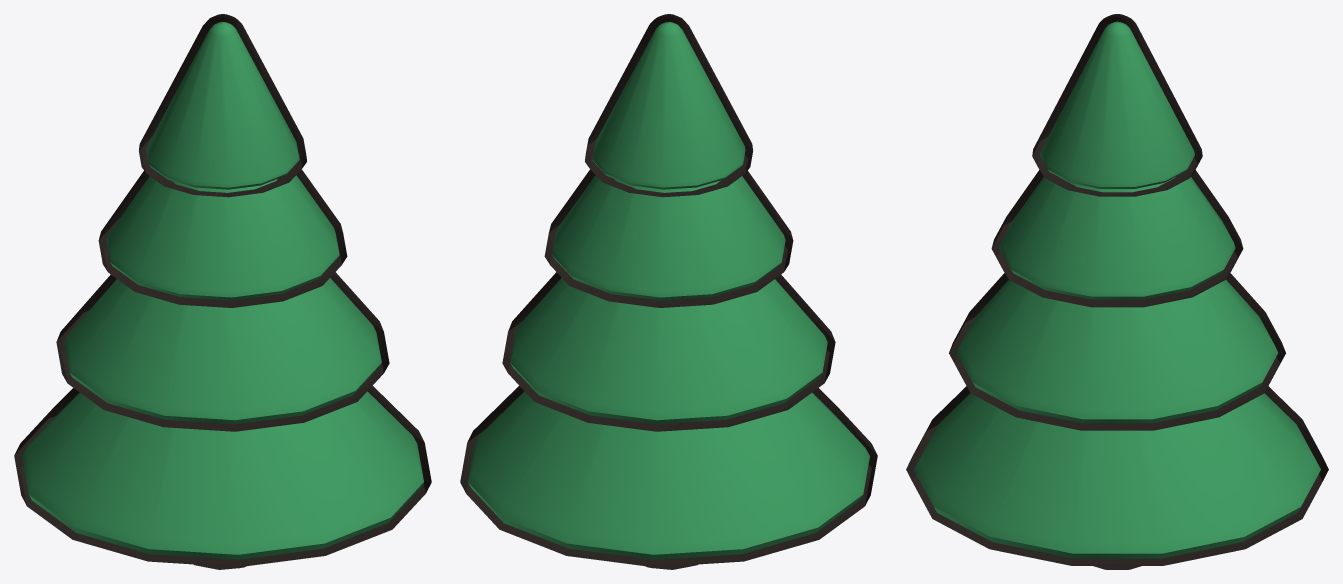
Rendered from Tree_Pine_Tall.fbx.
3 renders of one model, left to right at view 1: azimuth 30°, elevation 25°; view 2: azimuth 150°, elevation 25°; view 3: azimuth 270°, elevation 25°, orthographic.
Visible parts, largest first — view 1: PR_Tree_Pine_Tall_Pine, PR_Tree_Pine_Tall_Outline; view 2: PR_Tree_Pine_Tall_Pine, PR_Tree_Pine_Tall_Outline; view 3: PR_Tree_Pine_Tall_Pine, PR_Tree_Pine_Tall_Outline.
Boxes of the visible parts, left/top/right/bottom form: PR_Tree_Pine_Tall_Pine: left=22, top=21, right=423, bottom=559; PR_Tree_Pine_Tall_Outline: left=14, top=14, right=431, bottom=569; PR_Tree_Pine_Tall_Pine: left=468, top=21, right=869, bottom=559; PR_Tree_Pine_Tall_Outline: left=460, top=14, right=877, bottom=569; PR_Tree_Pine_Tall_Pine: left=914, top=21, right=1320, bottom=558; PR_Tree_Pine_Tall_Outline: left=906, top=14, right=1328, bottom=569.
Bounding box in the file's own units: 3.16 × 4.57 × 3.24.
